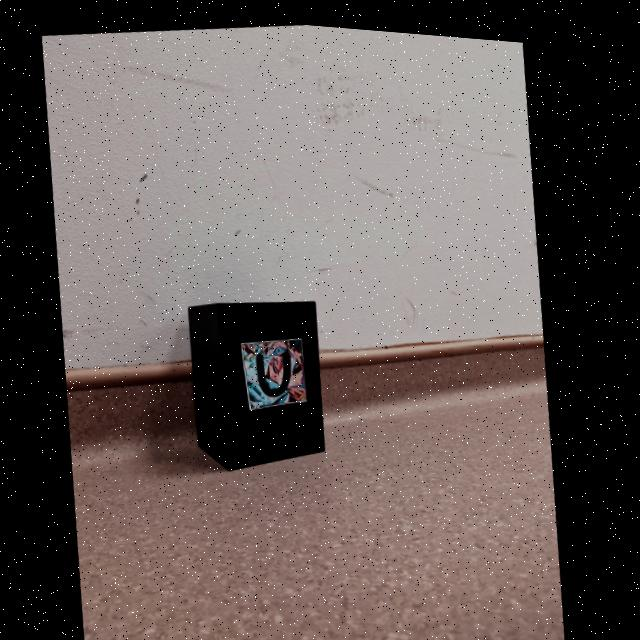U: (260, 346, 295, 392)
